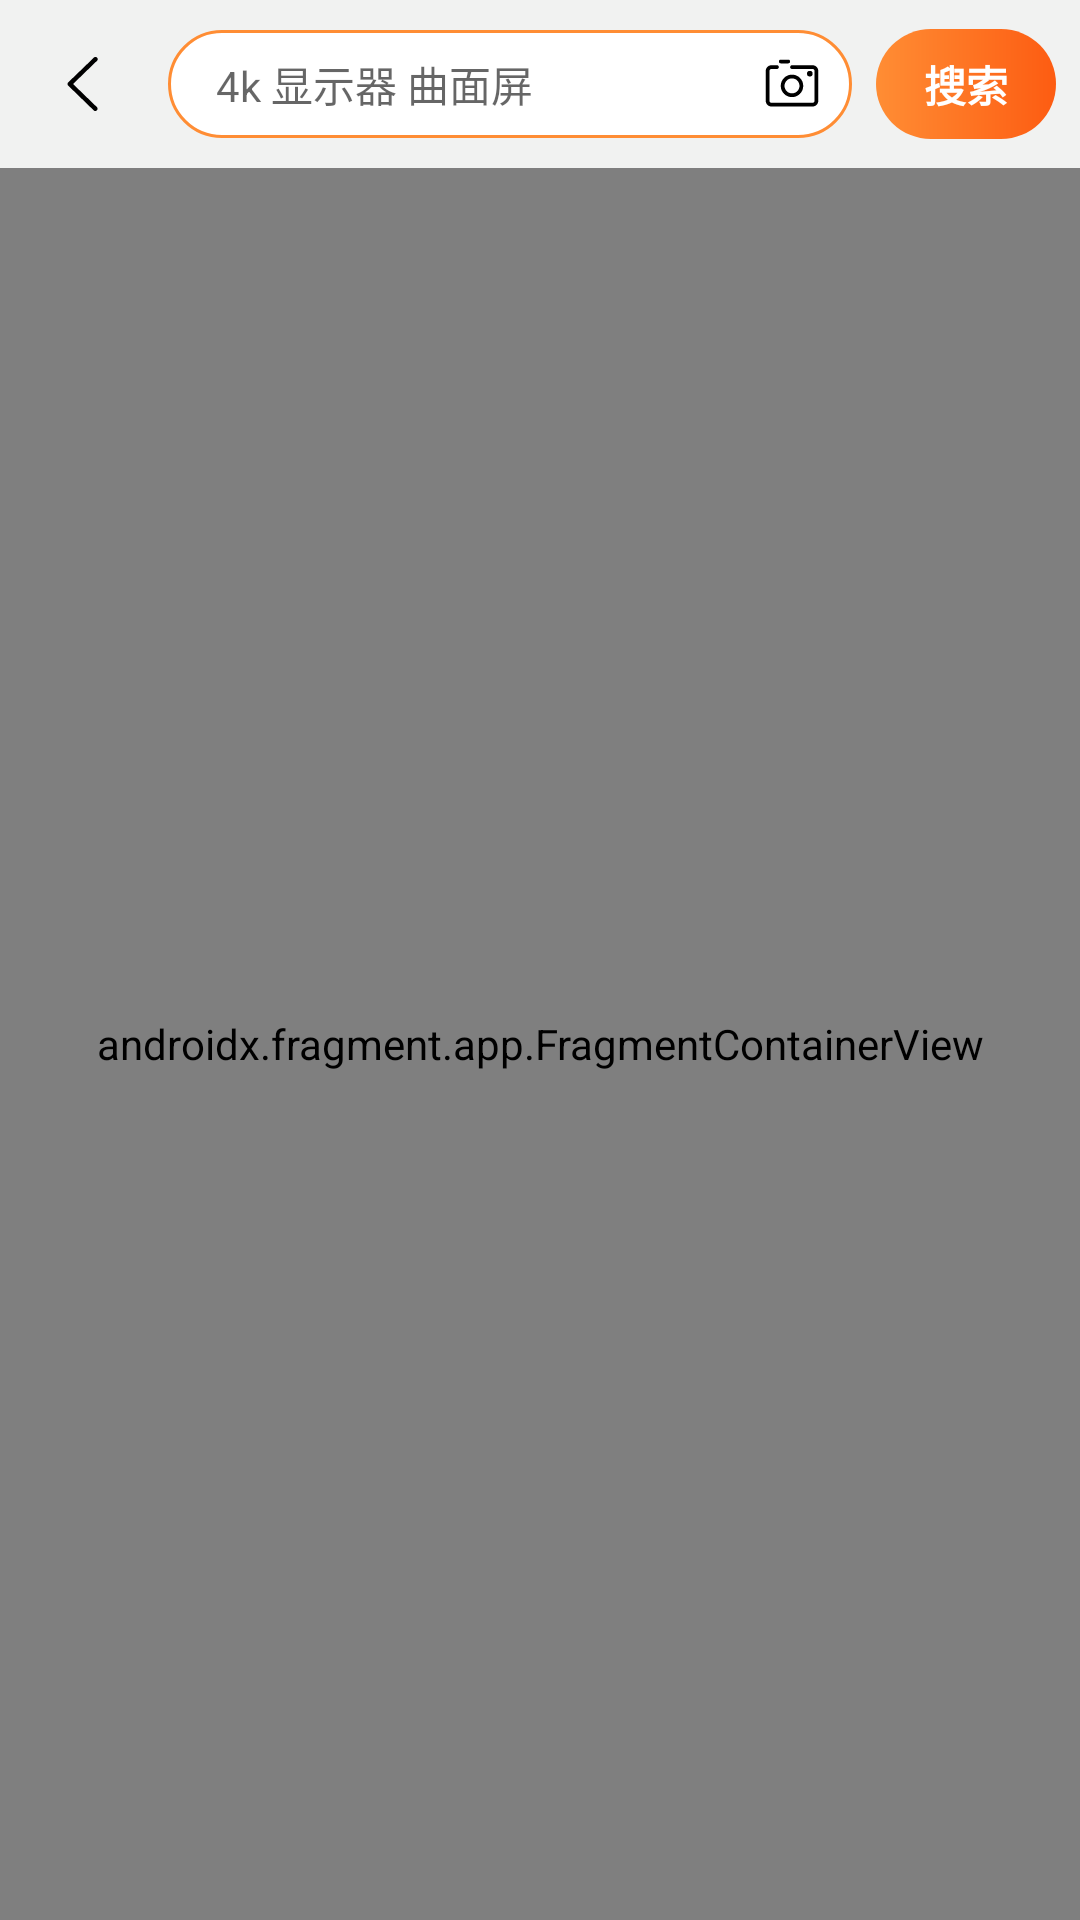

Screen size 1080px x 1920px. Icon name, then its box in pixels as [x1=x1, y1=y1, x2=x2, y2=y2]:
back: [x1=67, y1=57, x2=98, y2=111]
camera: [x1=732, y1=30, x2=852, y2=138]
